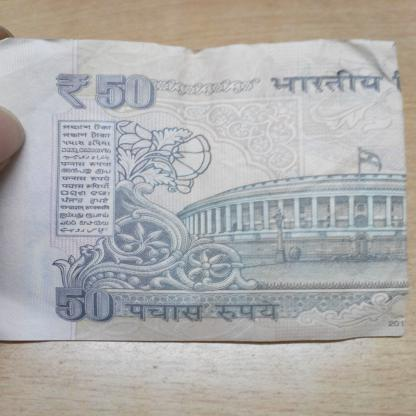Old50Back: (0, 36, 408, 343)
